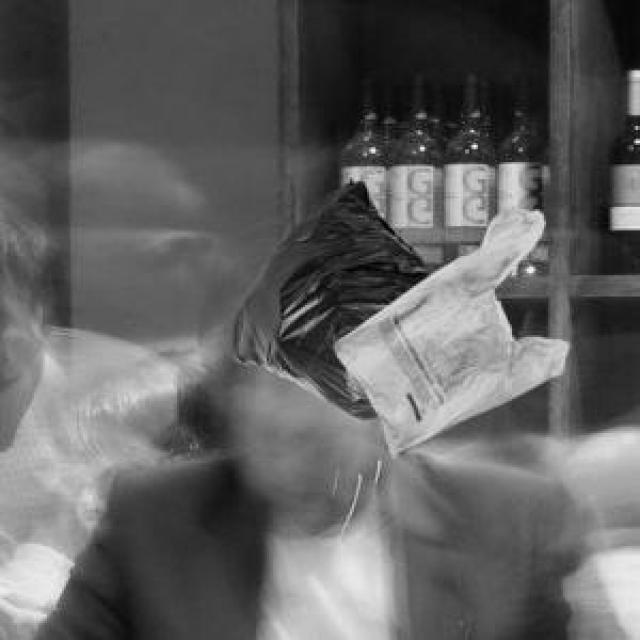miscellaneous trash: (226, 175, 427, 416)
